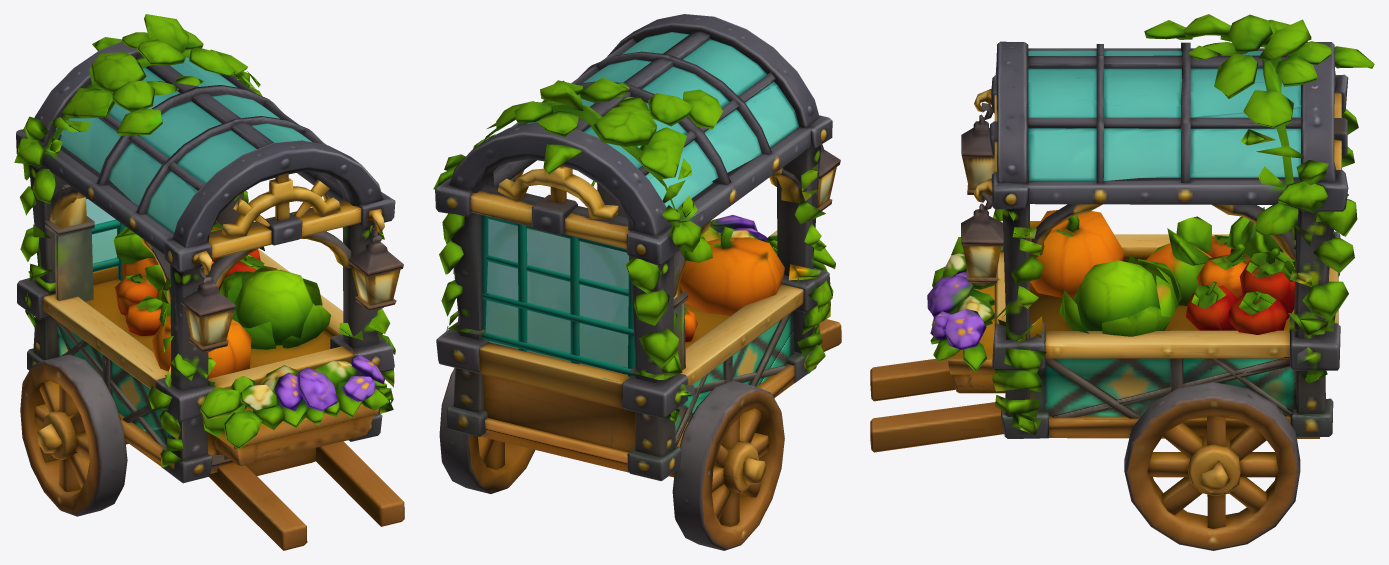
The model's file is cart_glass.glb.
The picture shows the model from 3 angles, left to right: view 1: azimuth 30°, elevation 25°; view 2: azimuth 150°, elevation 25°; view 3: azimuth 270°, elevation 25°; orthographic projection. The views are drawn at different scales.
Parts seen in each view (by area): view 1: geometry_0; view 2: geometry_0; view 3: geometry_0.
Boxes of the visible parts, left/top/right/bottom form: geometry_0: left=14, top=14, right=404, bottom=550; geometry_0: left=433, top=14, right=841, bottom=550; geometry_0: left=870, top=14, right=1374, bottom=550.
Size of the model in its own units: 0.6489 by 0.9546 by 0.9321.
Materials: 1 (1 with a texture image).
